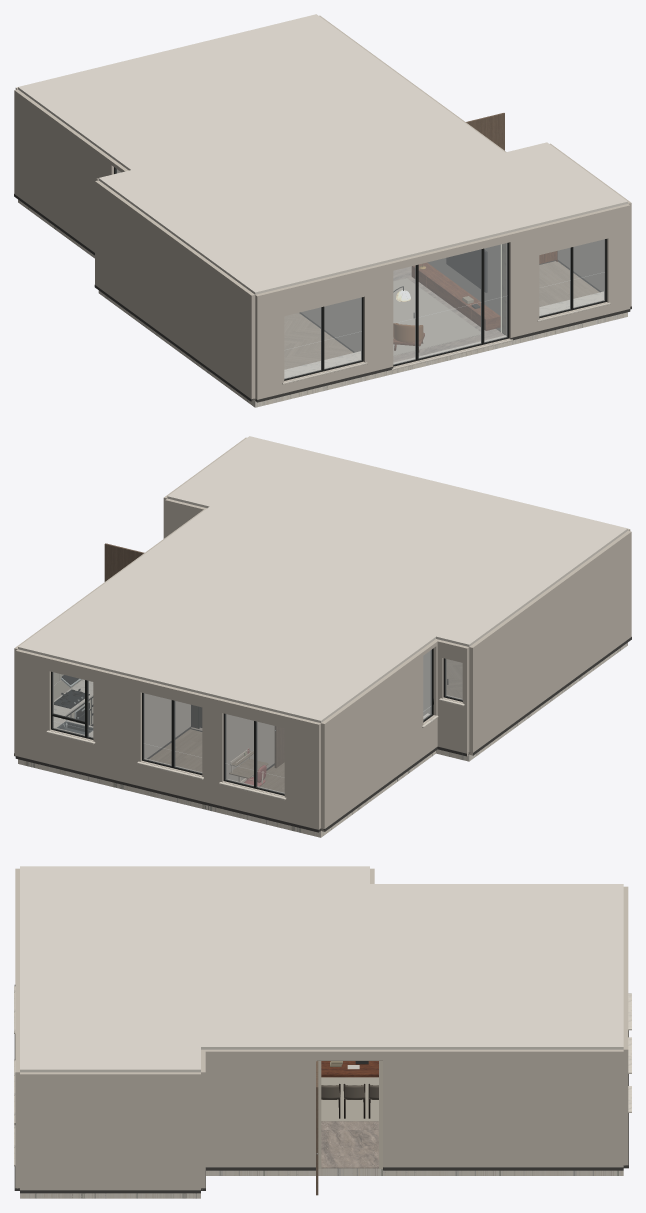
Rendered from apartment-v20.glb.
3 views of the same model, one above another, from view 1: azimuth 30°, elevation 25°; view 2: azimuth 150°, elevation 25°; view 3: azimuth 270°, elevation 25° (orthographic). The views are drawn at different scales.
Visible parts, largest first — view 1: Ceiling_main, wall_west_south_0_0_upper, wall_west_south_0_0_lower, wall_west_north_0_0_upper, Living_south_glass_upper.001, wall_west_north_0_0_lower, Furniture_living_rug, Apartment_floor_slab, Living_south_glass_lower.001, wall_south_1_1_upper, floor_master, wall_south_5_1_upper (+35 smaller); view 2: Ceiling_main, wall_west_south_0_0_upper, wall_west_north_0_0_upper, wall_west_south_0_0_lower, wall_west_north_0_0_lower, wall_north_4_0_upper, Apartment_floor_slab, wall_north_0_0_upper, wall_north_6_0_upper, wall_north_4_0_lower, wall_x_kitchen_0_0_lower, wall_north_3_0_lower (+24 smaller); view 3: Ceiling_main, wall_east_north_0_0_upper, wall_east_south_0_0_upper, wall_east_north_0_0_lower, wall_east_south_0_0_lower, wall_east_elevator_0_0_upper, wall_east_elevator_0_0_lower, Apartment_floor_slab, Continuous_public_stone, Furniture_dining_rug, skirting_east_north_0, Furniture_dining_work_table (+3 smaller).
Boxes of the visible parts, bbox=[...] form: Ceiling_main: bbox=[18, 14, 627, 294]; wall_west_south_0_0_upper: bbox=[95, 180, 255, 358]; wall_west_south_0_0_lower: bbox=[95, 244, 255, 401]; wall_west_north_0_0_upper: bbox=[14, 89, 118, 211]; Living_south_glass_upper.001: bbox=[418, 249, 481, 317]; wall_west_north_0_0_lower: bbox=[14, 153, 94, 252]; Furniture_living_rug: bbox=[393, 278, 480, 355]; Apartment_floor_slab: bbox=[18, 199, 627, 407]; Living_south_glass_lower.001: bbox=[418, 302, 481, 358]; wall_south_1_1_upper: bbox=[282, 268, 364, 316]; floor_master: bbox=[284, 313, 352, 369]; wall_south_5_1_upper: bbox=[538, 209, 608, 254]; Ceiling_main: bbox=[18, 436, 627, 722]; wall_west_south_0_0_upper: bbox=[469, 531, 631, 711]; wall_west_north_0_0_upper: bbox=[321, 651, 423, 787]; wall_west_south_0_0_lower: bbox=[469, 595, 631, 755]; wall_west_north_0_0_lower: bbox=[321, 716, 423, 831]; wall_north_4_0_upper: bbox=[93, 668, 144, 744]; Apartment_floor_slab: bbox=[18, 642, 627, 837]; wall_north_0_0_upper: bbox=[284, 715, 320, 787]; wall_north_6_0_upper: bbox=[15, 649, 53, 722]; wall_north_4_0_lower: bbox=[93, 733, 144, 786]; wall_x_kitchen_0_0_lower: bbox=[144, 700, 190, 758]; wall_north_3_0_lower: bbox=[140, 758, 202, 801]; Ceiling_main: bbox=[20, 866, 623, 1072]; wall_east_north_0_0_upper: bbox=[383, 1049, 623, 1121]; wall_east_south_0_0_upper: bbox=[20, 1072, 200, 1144]; wall_east_north_0_0_lower: bbox=[383, 1121, 623, 1167]; wall_east_south_0_0_lower: bbox=[20, 1144, 200, 1190]; wall_east_elevator_0_0_upper: bbox=[201, 1049, 313, 1121]; wall_east_elevator_0_0_lower: bbox=[205, 1121, 313, 1167]; Apartment_floor_slab: bbox=[20, 1168, 623, 1198]; Continuous_public_stone: bbox=[321, 1121, 378, 1168]; Furniture_dining_rug: bbox=[321, 1077, 378, 1121]; skirting_east_north_0: bbox=[383, 1167, 623, 1170]; Furniture_dining_work_table: bbox=[321, 1061, 378, 1077].
Size of the model in its own units: 10.67 by 3.04 by 13.2.
Materials: 57 (17 with a texture image).
